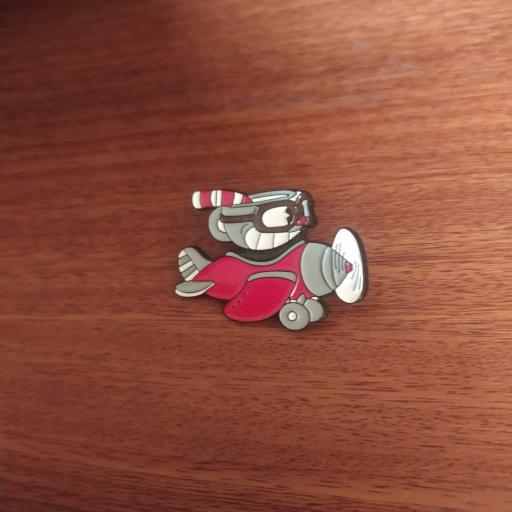Pin: (154, 177, 389, 339)
